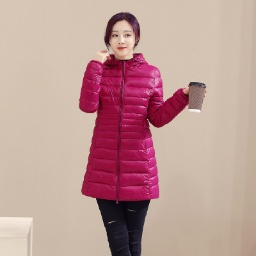face: (98, 10, 155, 71)
